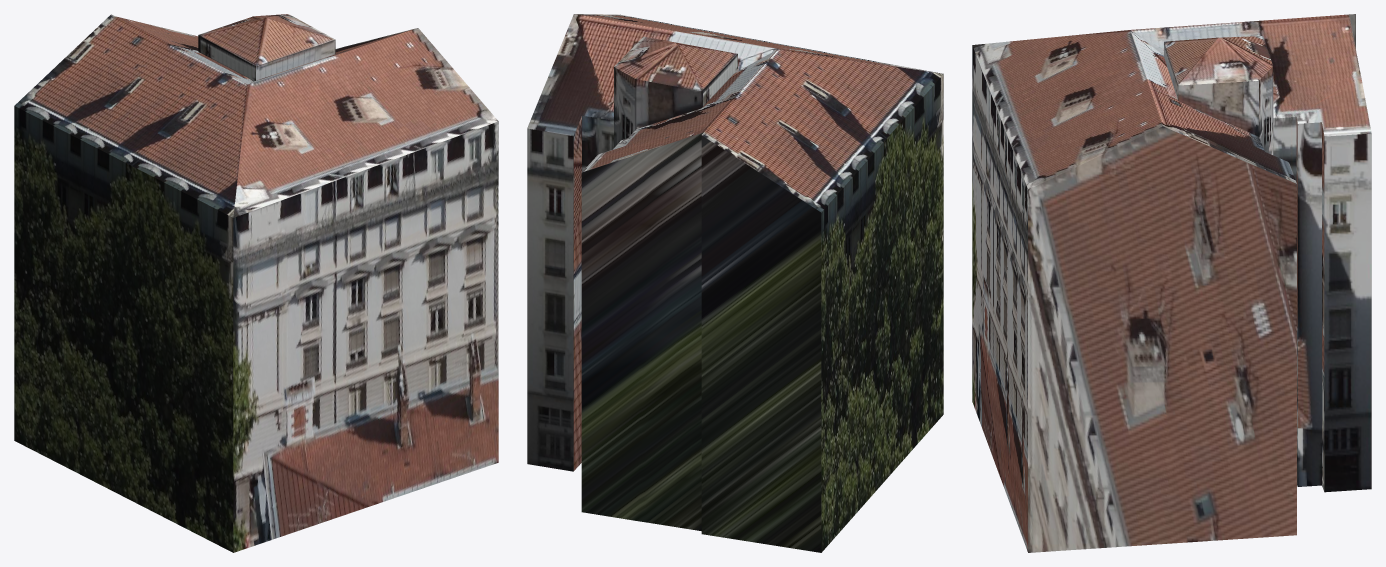
3 views of the same model, side by side, from view 1: azimuth 30°, elevation 25°; view 2: azimuth 150°, elevation 25°; view 3: azimuth 270°, elevation 25° (orthographic). The views are drawn at different scales.
Parts seen in each view (by area): view 1: Z_UP; view 2: Z_UP; view 3: Z_UP.
Part boxes in pixels (<box>): Z_UP: <box>14,14,498,552</box>; Z_UP: <box>527,14,943,552</box>; Z_UP: <box>972,14,1371,552</box>.
Bounding box in the file's own units: 24.59 × 28.55 × 23.44.
Materials: 2 (1 with a texture image).
